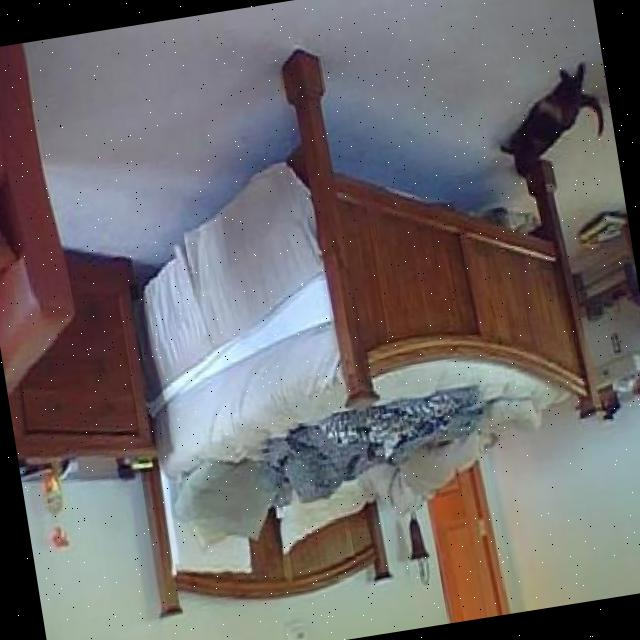Bed: (81, 2, 626, 616)
